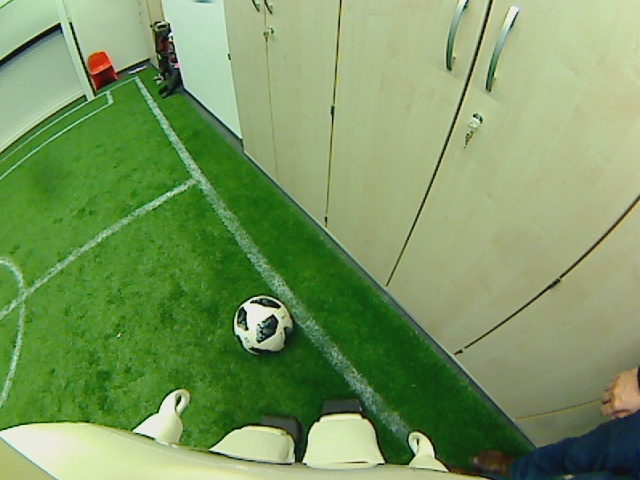ball: (232, 293, 294, 353)
